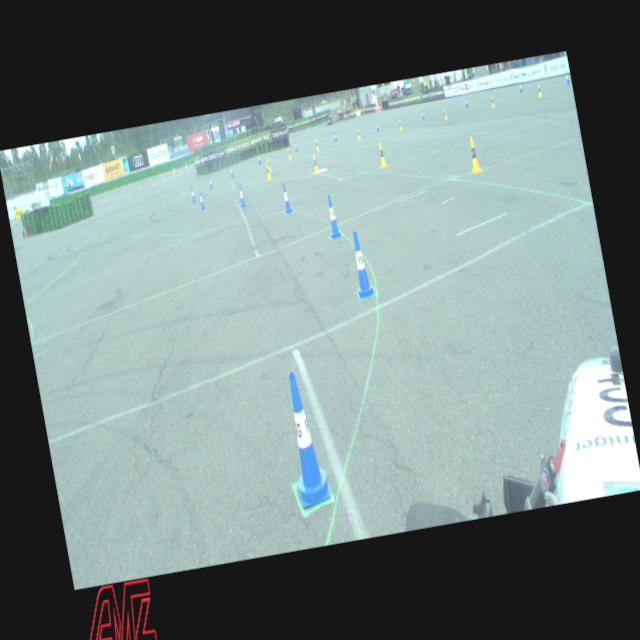blue_cone: (278, 368, 332, 508), (348, 229, 374, 298), (324, 193, 341, 238), (280, 182, 292, 212), (237, 183, 246, 206), (198, 190, 205, 210), (189, 186, 196, 202), (564, 71, 570, 84), (208, 176, 213, 188), (257, 152, 261, 164), (420, 109, 424, 120), (518, 81, 522, 92), (294, 141, 298, 151), (333, 132, 337, 142), (375, 121, 379, 131), (464, 98, 468, 108), (230, 166, 233, 177)
yellow_cone: (466, 136, 481, 173), (376, 142, 386, 167), (311, 152, 319, 174), (264, 162, 272, 180), (265, 158, 271, 172), (286, 146, 292, 159), (536, 84, 542, 96), (314, 138, 319, 150), (356, 128, 361, 140), (490, 95, 495, 106), (398, 119, 402, 130), (443, 108, 447, 119)
